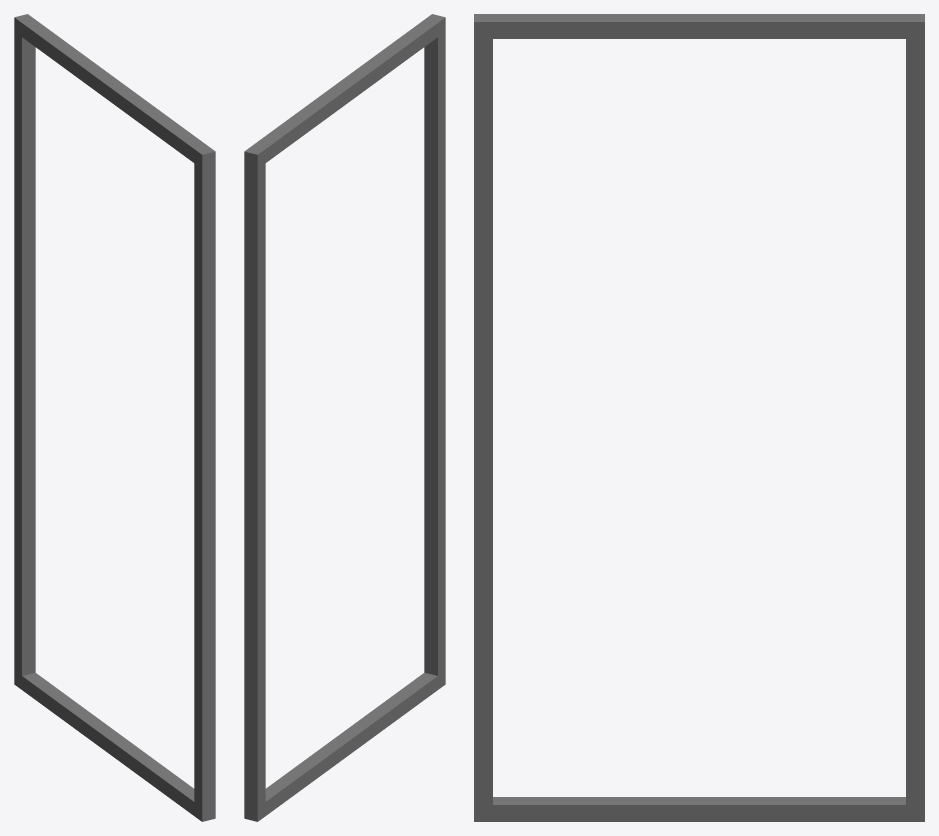
Rendered from ShowerDoor.obj.
The picture shows the model from 3 angles, left to right: view 1: azimuth 30°, elevation 25°; view 2: azimuth 150°, elevation 25°; view 3: azimuth 270°, elevation 25°; orthographic projection. The views are drawn at different scales.
Bounding box in the file's own units: 0.1 × 4.7 × 2.4.
Materials: 1 (1 with a texture image).
